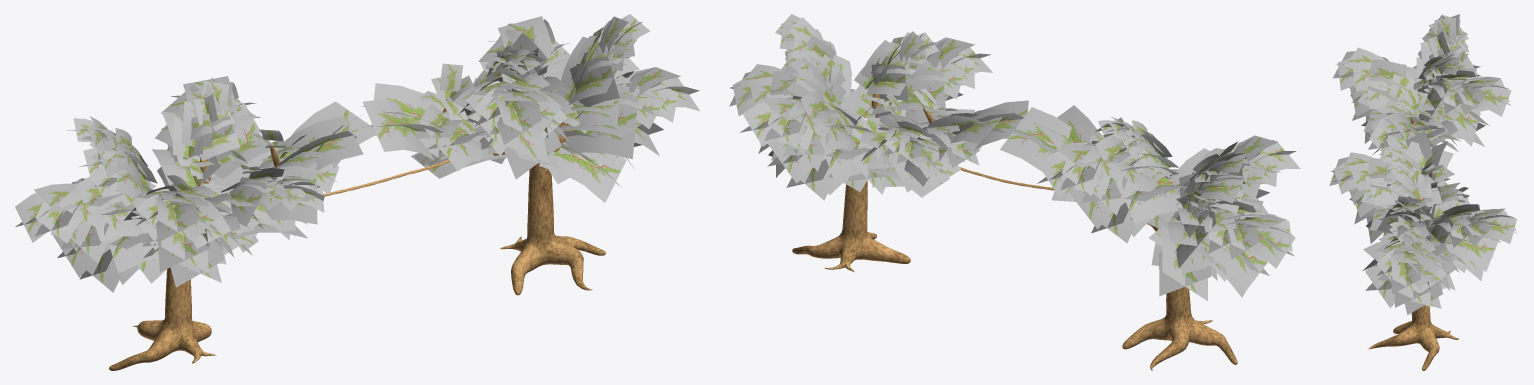
File: SabannaWood_GoalPost.fbx
3 renders of one model, left to right at view 1: azimuth 30°, elevation 25°; view 2: azimuth 150°, elevation 25°; view 3: azimuth 270°, elevation 25°, orthographic. The views are drawn at different scales.
Visible parts, largest first — view 1: SabannaWood_GoalPost; view 2: SabannaWood_GoalPost; view 3: SabannaWood_GoalPost.
Boxes of the visible parts, x1,y1,x2,y2 form: SabannaWood_GoalPost: (15, 14, 699, 370); SabannaWood_GoalPost: (729, 14, 1300, 370); SabannaWood_GoalPost: (1329, 14, 1516, 370).
Size of the model in its own units: 1807 by 682 by 643.
